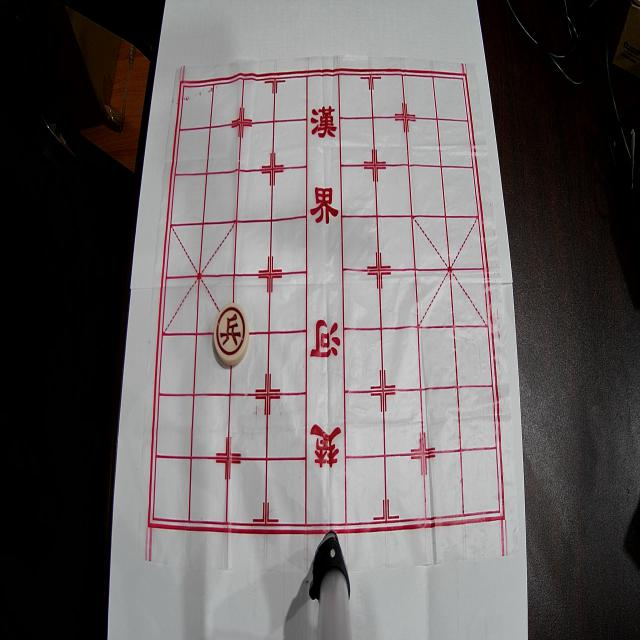red-soldier: (214, 303, 249, 365)
